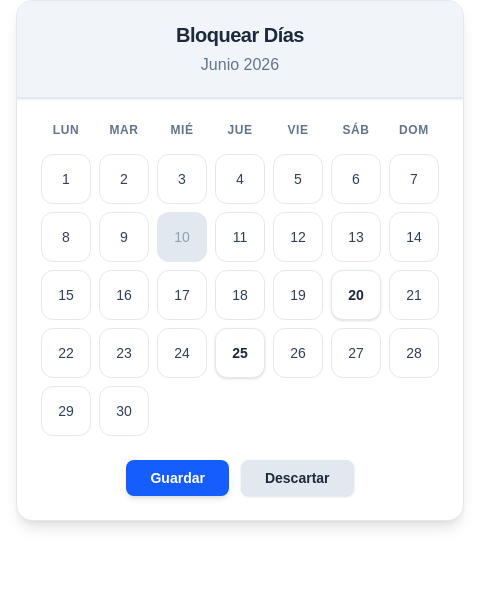
Test: US_005: Seleccionar días para bloquearlos › Escenario 2: Bloqueo de días sin reservas de turnos
Seleccionamos un día futuro (20 de junio)
Click the text with test id "dia-2026-06-20" at (356, 295), box 331,270 -> 381,320
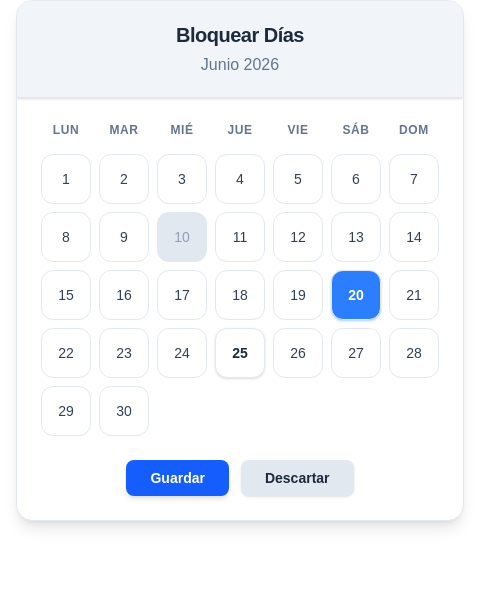
Presionamos el botón de guardar
Click the button "Guardar" at (178, 478), box 126,460 -> 229,496
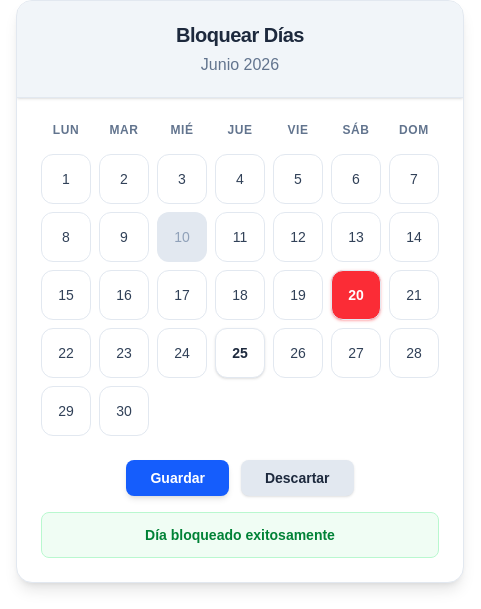
Now the text "Día bloqueado exitosamente" is shown, box 145,527 -> 335,543
